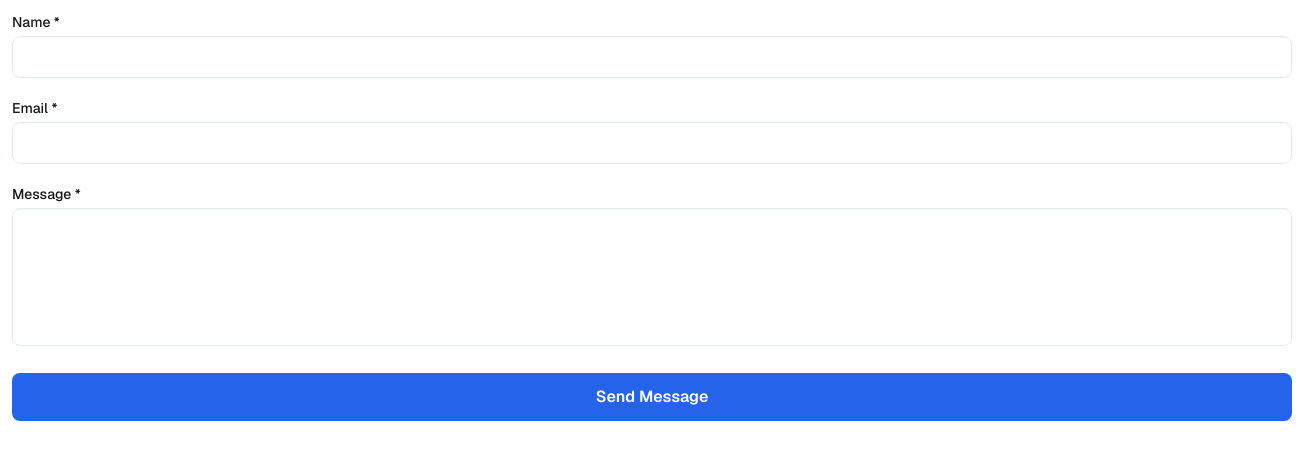
Test: ContactForm validation › shows error when email is missing
Type "John Doe" into the field labelled "Name *". click: (652, 57)
box: [12,36,1292,78]
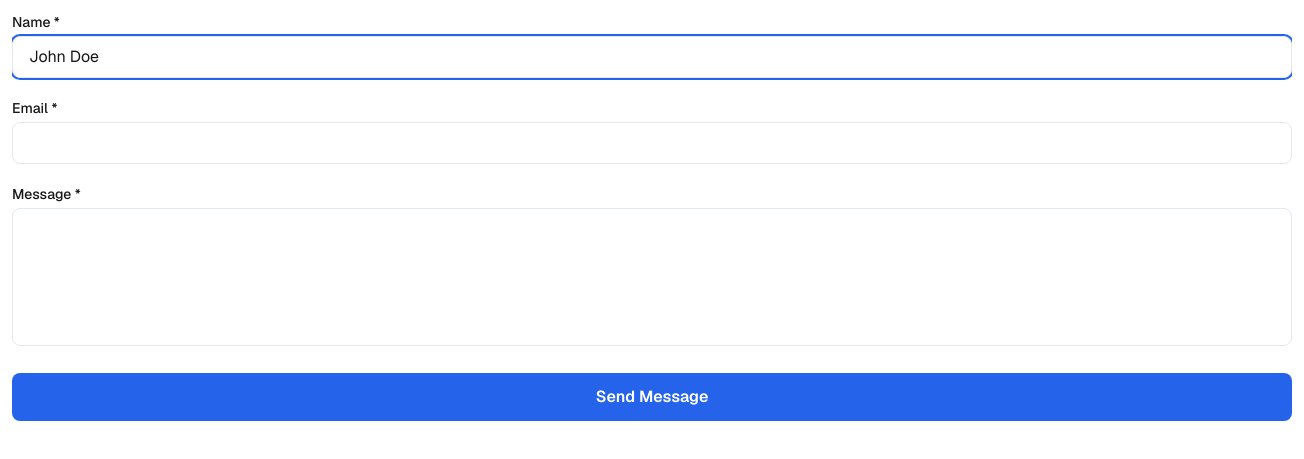
Type "This is a valid message for testing." into the text box labelled "Message *". click: (652, 277)
box: [12,208,1292,346]
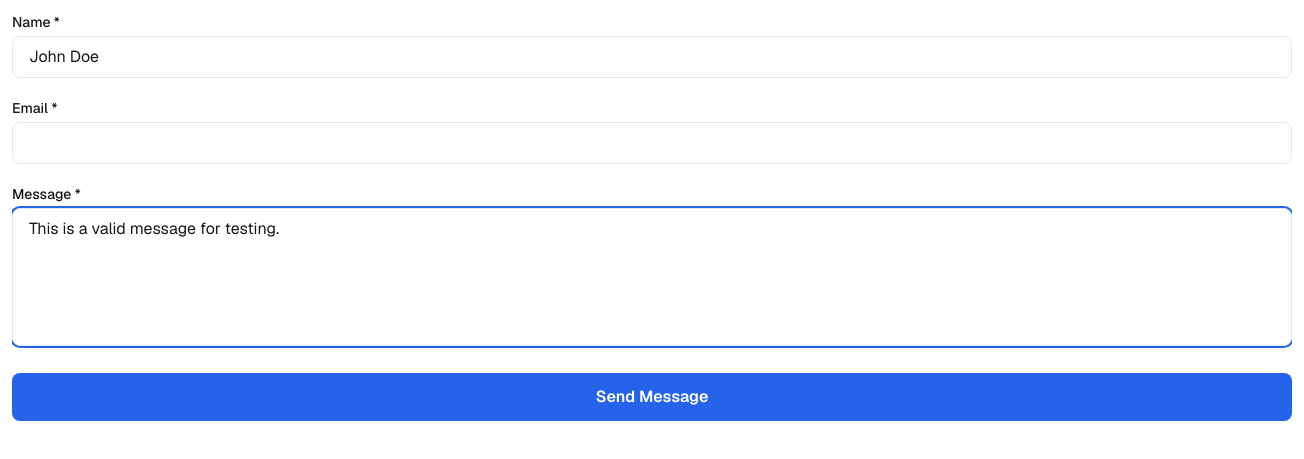
Click the button "Send Message". click: (652, 397)
box: [12,373,1292,421]
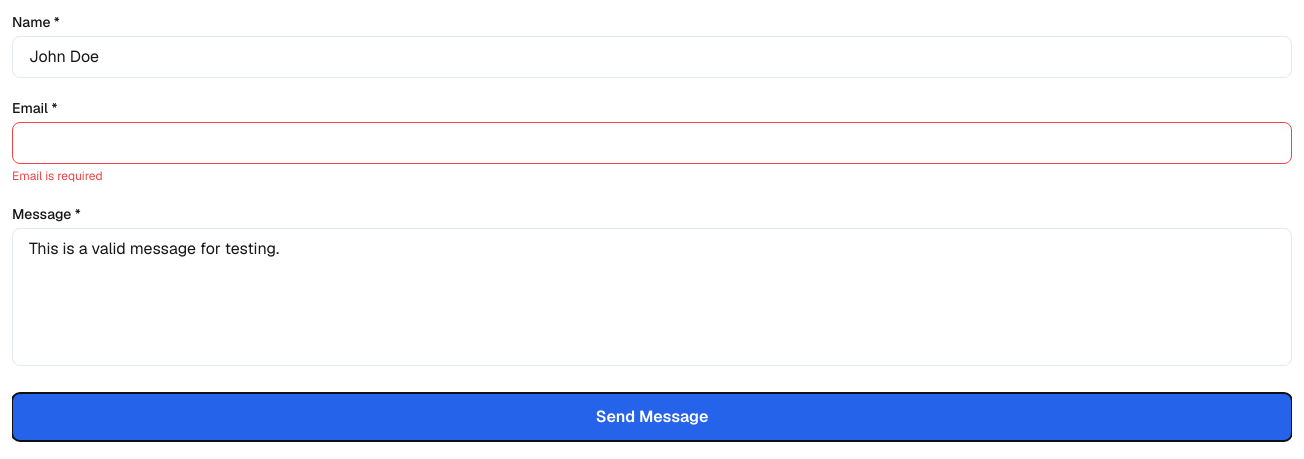
expect the text "Email is required" is shown: met, box [12,168,103,184]
